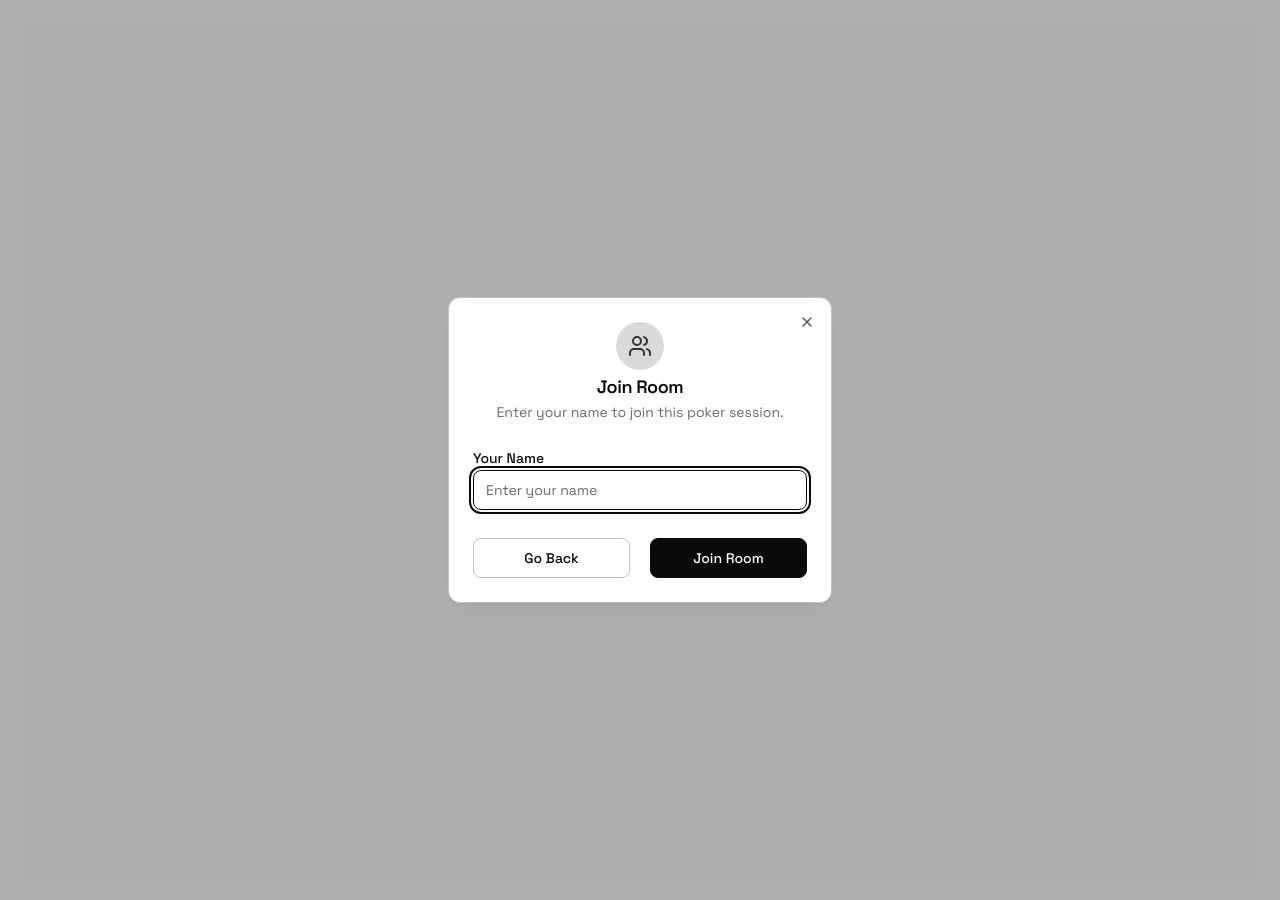
Test: JoinRoomDialog › should show error when joinRoom fails
Step 1. Type "Alice" into the field labelled "Your Name" → point(640, 490), box [473,470,807,510]
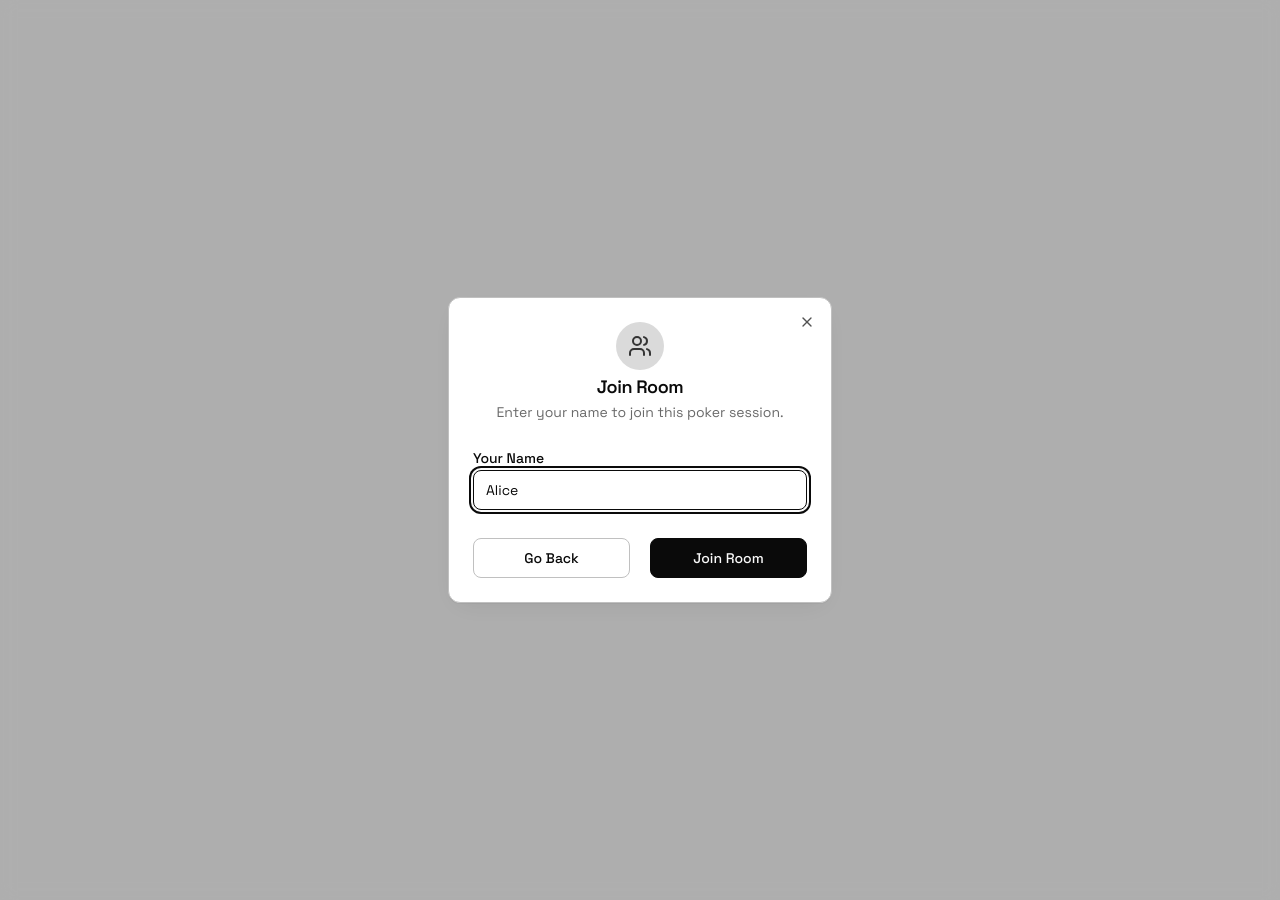
Step 2. Click the button "Join Room" → point(728, 558), box [650,538,807,578]
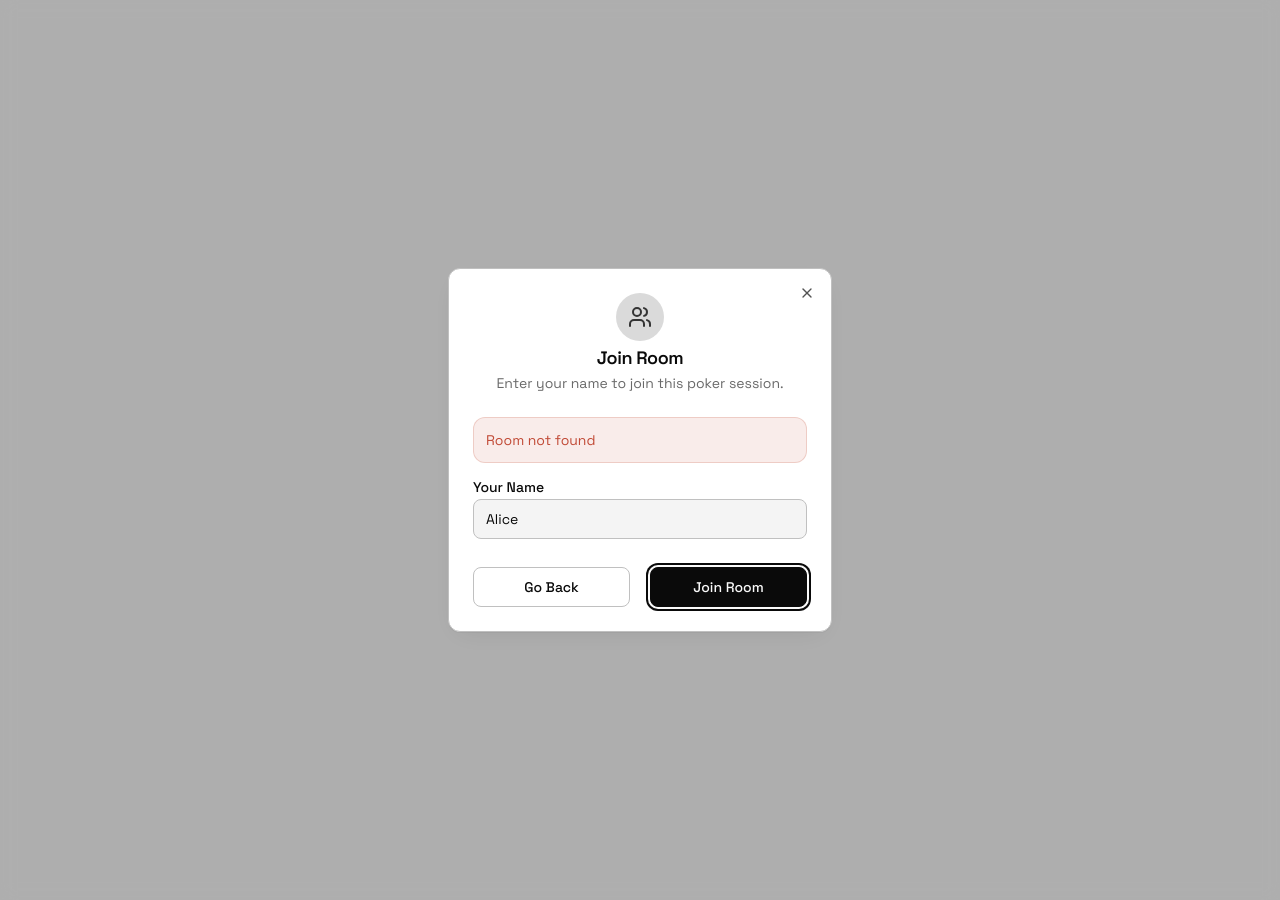
Now the text "Room not found" is shown, box [473,417,807,463]
